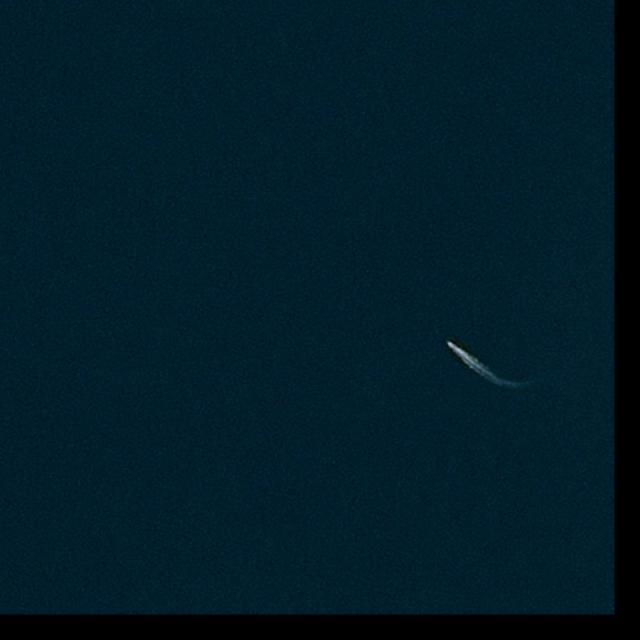ship: (446, 342, 452, 346)
